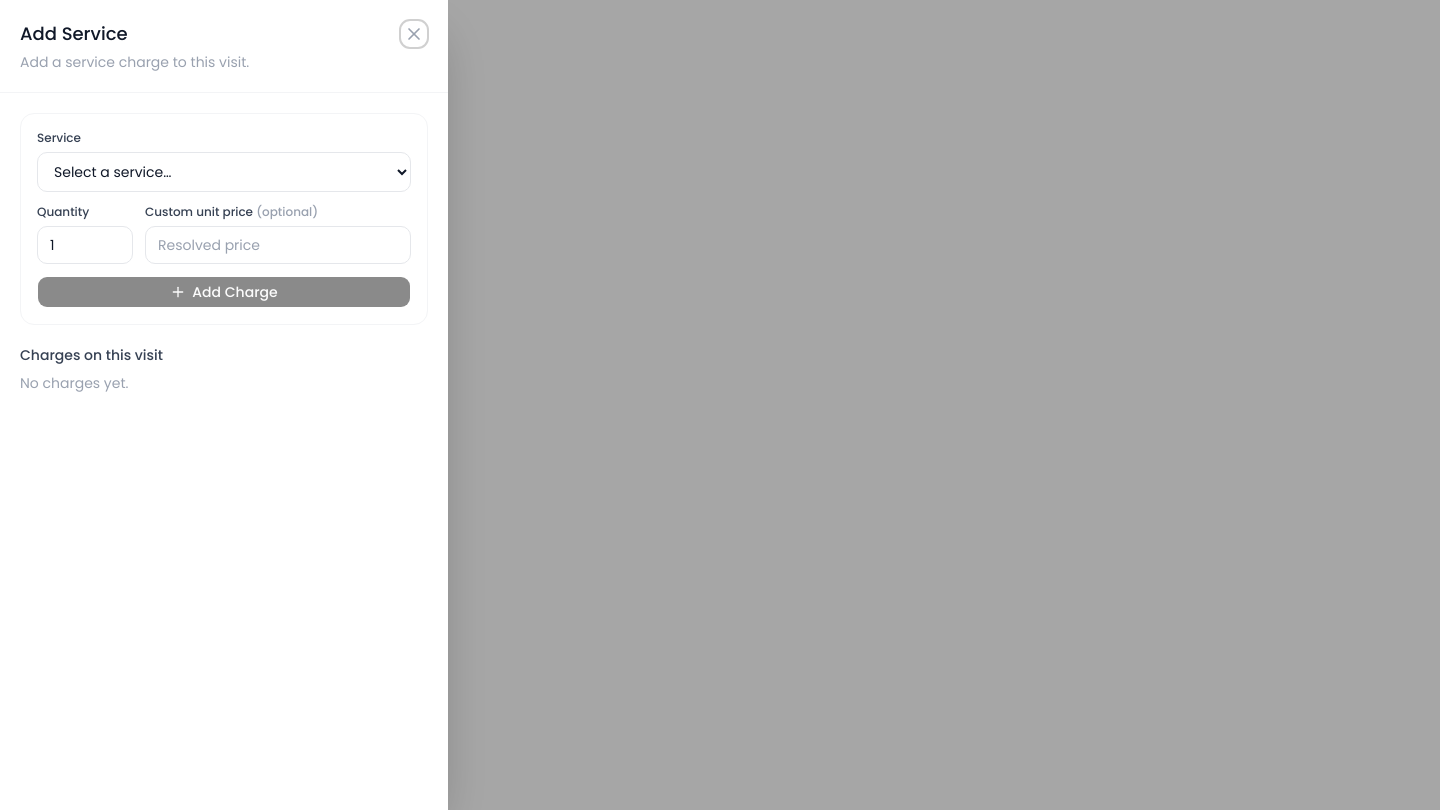
Test: AddChargeDrawer › shows the resolved price once a service is selected
This screenshot has width=1440, height=810.
Step 1. Select "Consultation" in the dropdown → [224, 172], box [37,152,411,192]
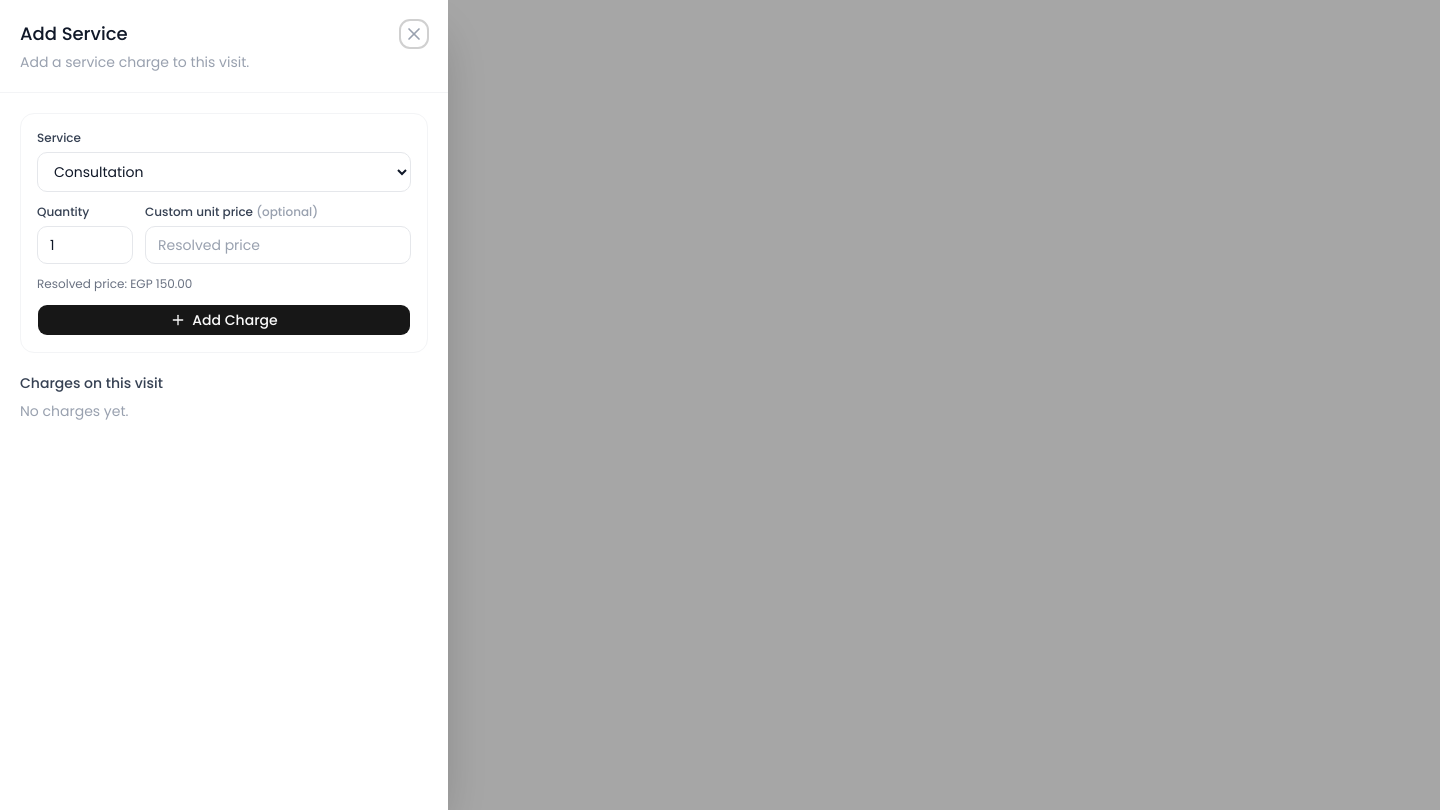
Now the text "Resolved price: EGP 150.00" is shown, box [37,275,192,292]
Now the button "Add Charge" is enabled, box [37,304,411,336]
